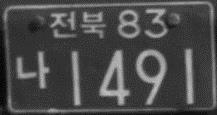1: (69, 48, 83, 108), (183, 46, 195, 106)
3: (143, 7, 167, 38)
4: (97, 48, 131, 107)
8: (116, 8, 140, 39)
9: (135, 48, 168, 106)
나: (14, 50, 49, 89)
전북_O: (48, 10, 107, 38)
